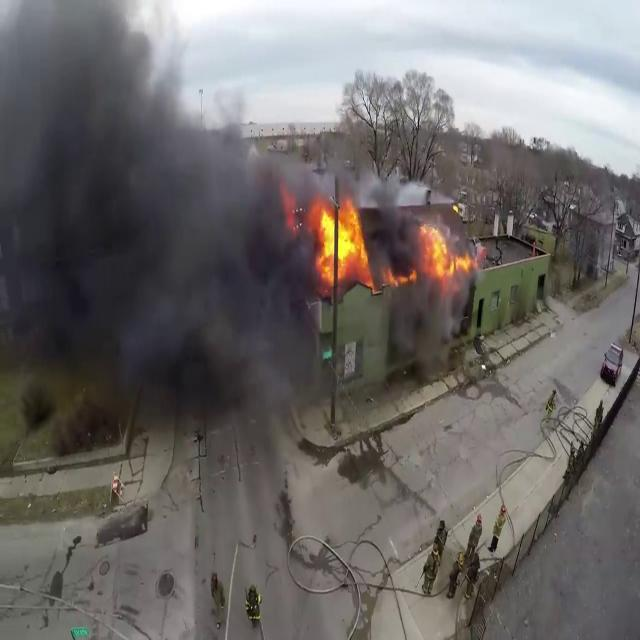Fire: (305, 191, 372, 289), (414, 216, 478, 283)
Smoke: (0, 3, 318, 449)
